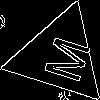M: (34, 31, 92, 85)
